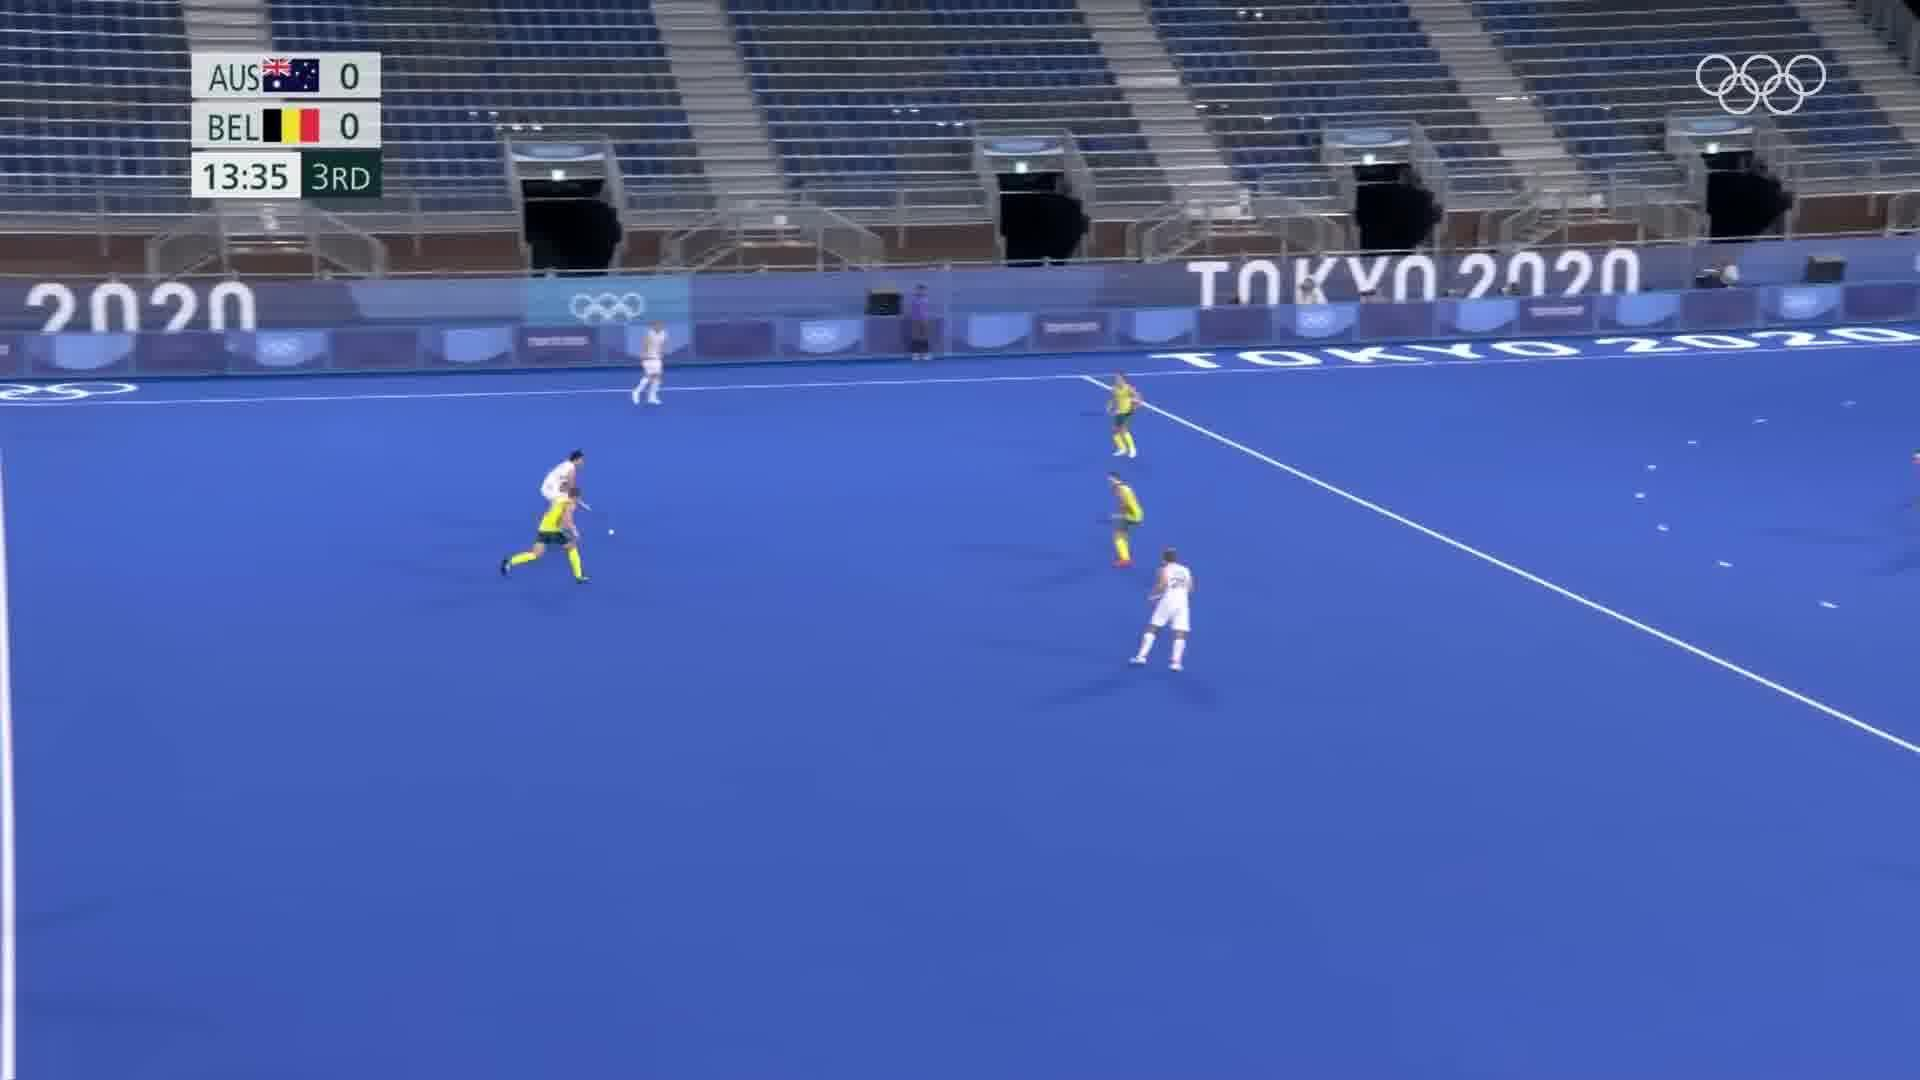ball: (602, 520, 618, 546)
